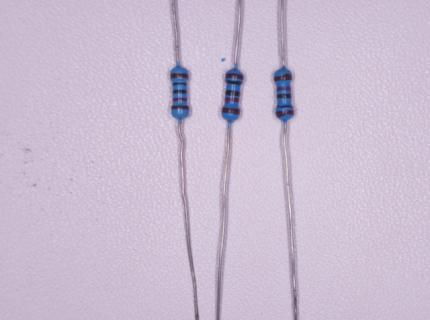Black band: (277, 93, 292, 100), (226, 90, 240, 97), (226, 80, 242, 86), (277, 104, 292, 108), (173, 90, 187, 94), (173, 82, 187, 86)
Brown band: (226, 73, 244, 80), (274, 74, 292, 81), (276, 110, 294, 117), (222, 108, 240, 115), (171, 105, 190, 110), (170, 73, 188, 78)
Red band: (225, 97, 239, 102), (277, 86, 291, 91), (173, 98, 187, 101)
